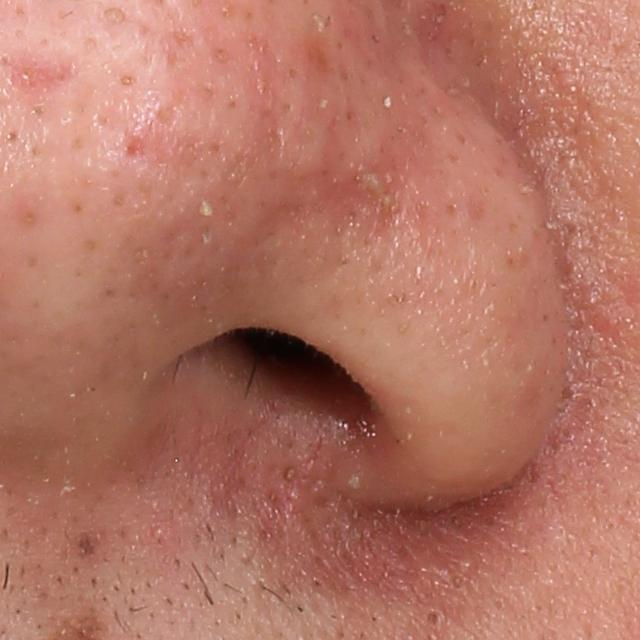comedo: (422, 601, 447, 634), (100, 1, 128, 29), (117, 68, 136, 88)
nevus: (72, 535, 97, 559)
